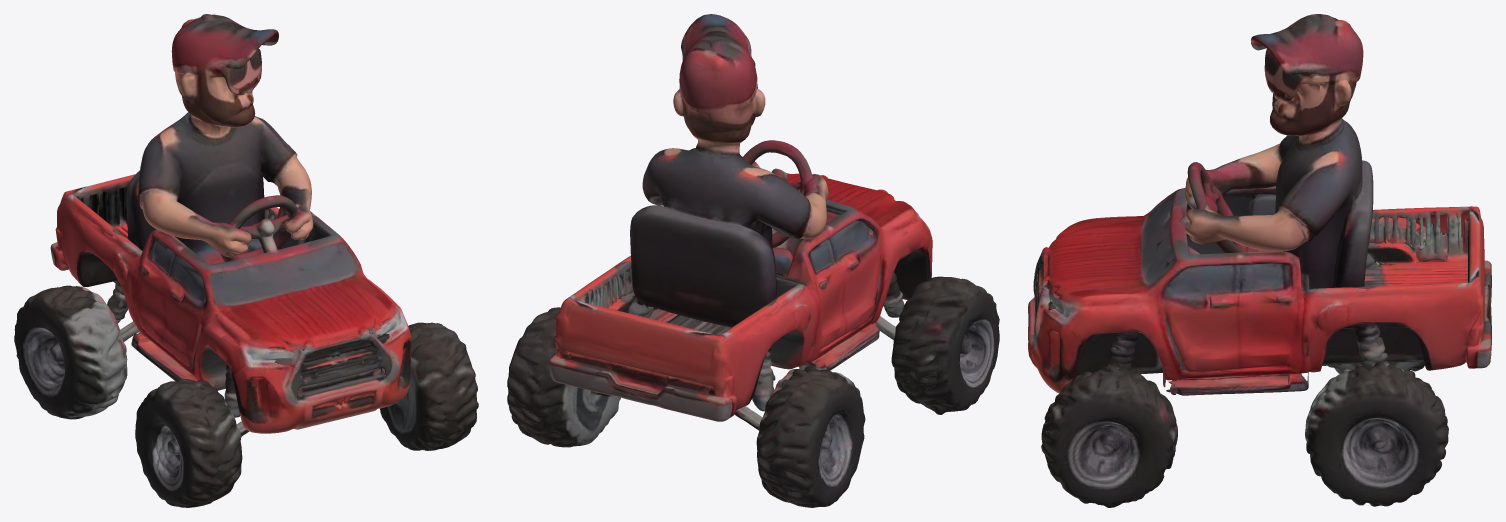
The model's file is cangri.glb.
The picture shows the model from 3 angles, left to right: view 1: azimuth 30°, elevation 25°; view 2: azimuth 150°, elevation 25°; view 3: azimuth 270°, elevation 25°; orthographic projection. The views are drawn at different scales.
Visible parts, largest first — view 1: tripo_node_e9768627-87b0-4cea-adee-4253ee1efca6; view 2: tripo_node_e9768627-87b0-4cea-adee-4253ee1efca6; view 3: tripo_node_e9768627-87b0-4cea-adee-4253ee1efca6.
Boxes of the visible parts, x1,y1,x2,y2 form: tripo_node_e9768627-87b0-4cea-adee-4253ee1efca6: (14, 14, 478, 507); tripo_node_e9768627-87b0-4cea-adee-4253ee1efca6: (507, 14, 999, 507); tripo_node_e9768627-87b0-4cea-adee-4253ee1efca6: (1028, 14, 1491, 507).
Size of the model in its own units: 0.7912 by 0.9998 by 0.9974.
Materials: 1 (1 with a texture image).
